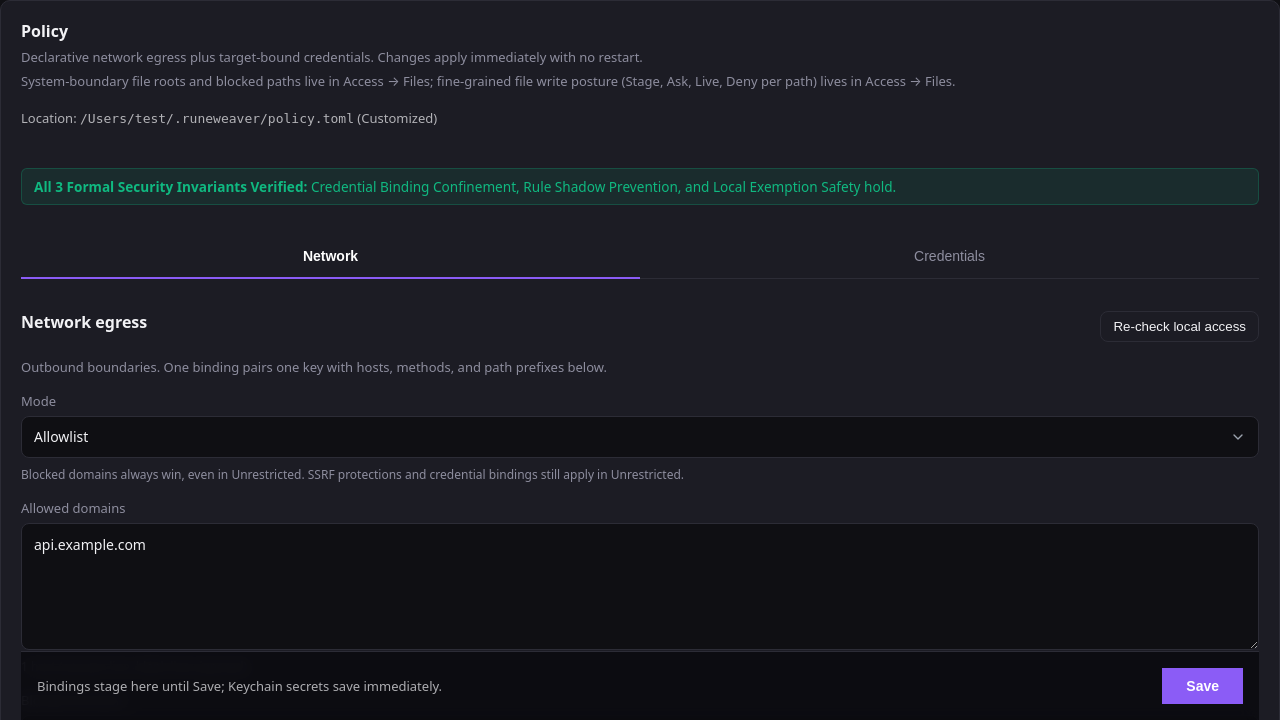
Test case: AccessNetworkSection › loads the structured snapshot into network editors and the credentials list
Expected: the dropdown labelled "Mode" shows "Allowlist", [21,416,1259,458]
Expected: the tab with test id "policytab-network" is shown, [21,235,640,279]
Click the tab with test id "policytab-credentials" at [950, 257], box [640,235,1259,279]
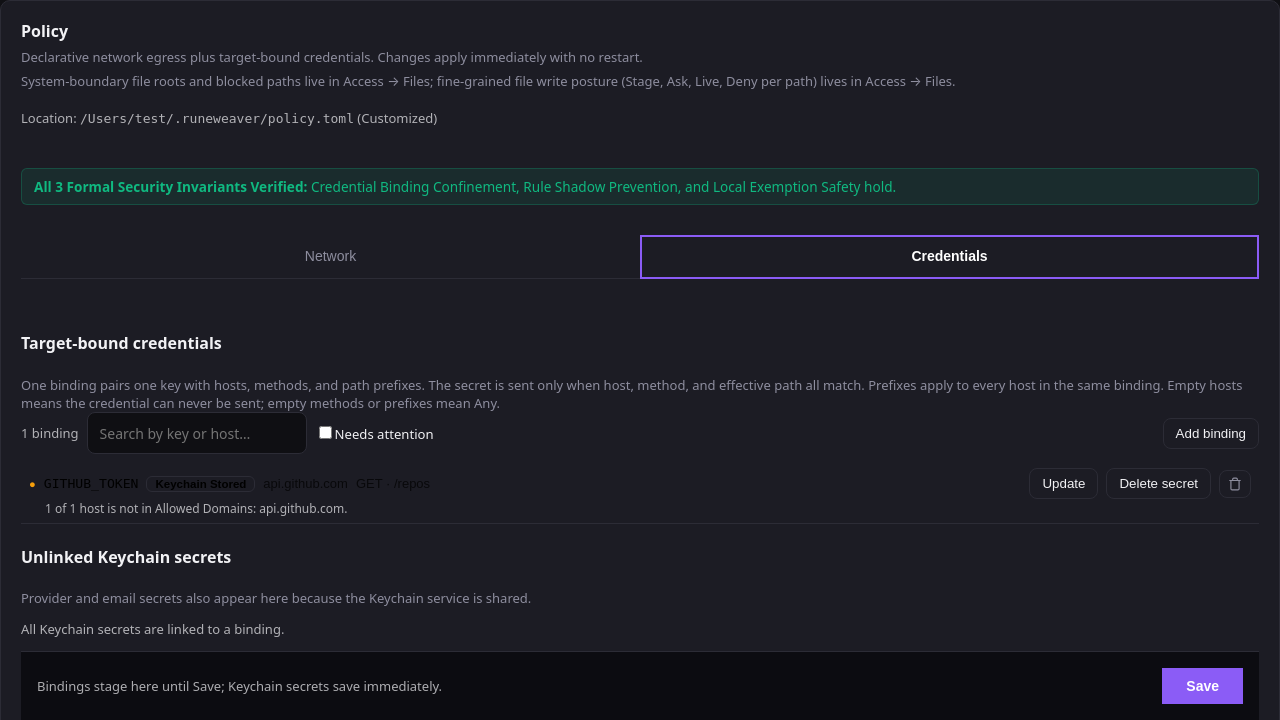
Now the element with test id "policy-credentials-section" is shown, box [21,332,1259,524]
Now the element with test id "credentials-list" is shown, box [21,412,1259,524]
Now the element with test id "unlinked-secrets" is shown, box [21,546,531,638]
